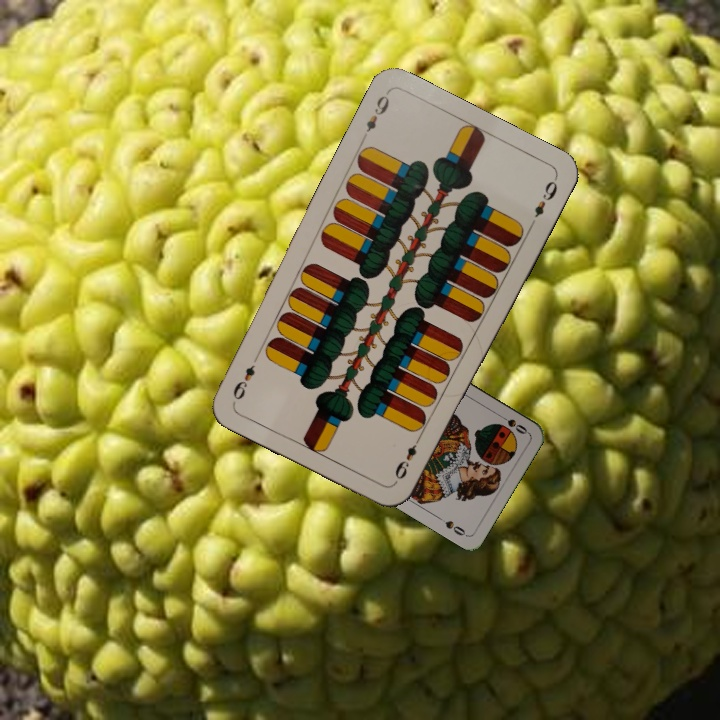E9: (390, 431, 424, 486), (361, 91, 392, 135)
SO: (494, 409, 530, 437)
